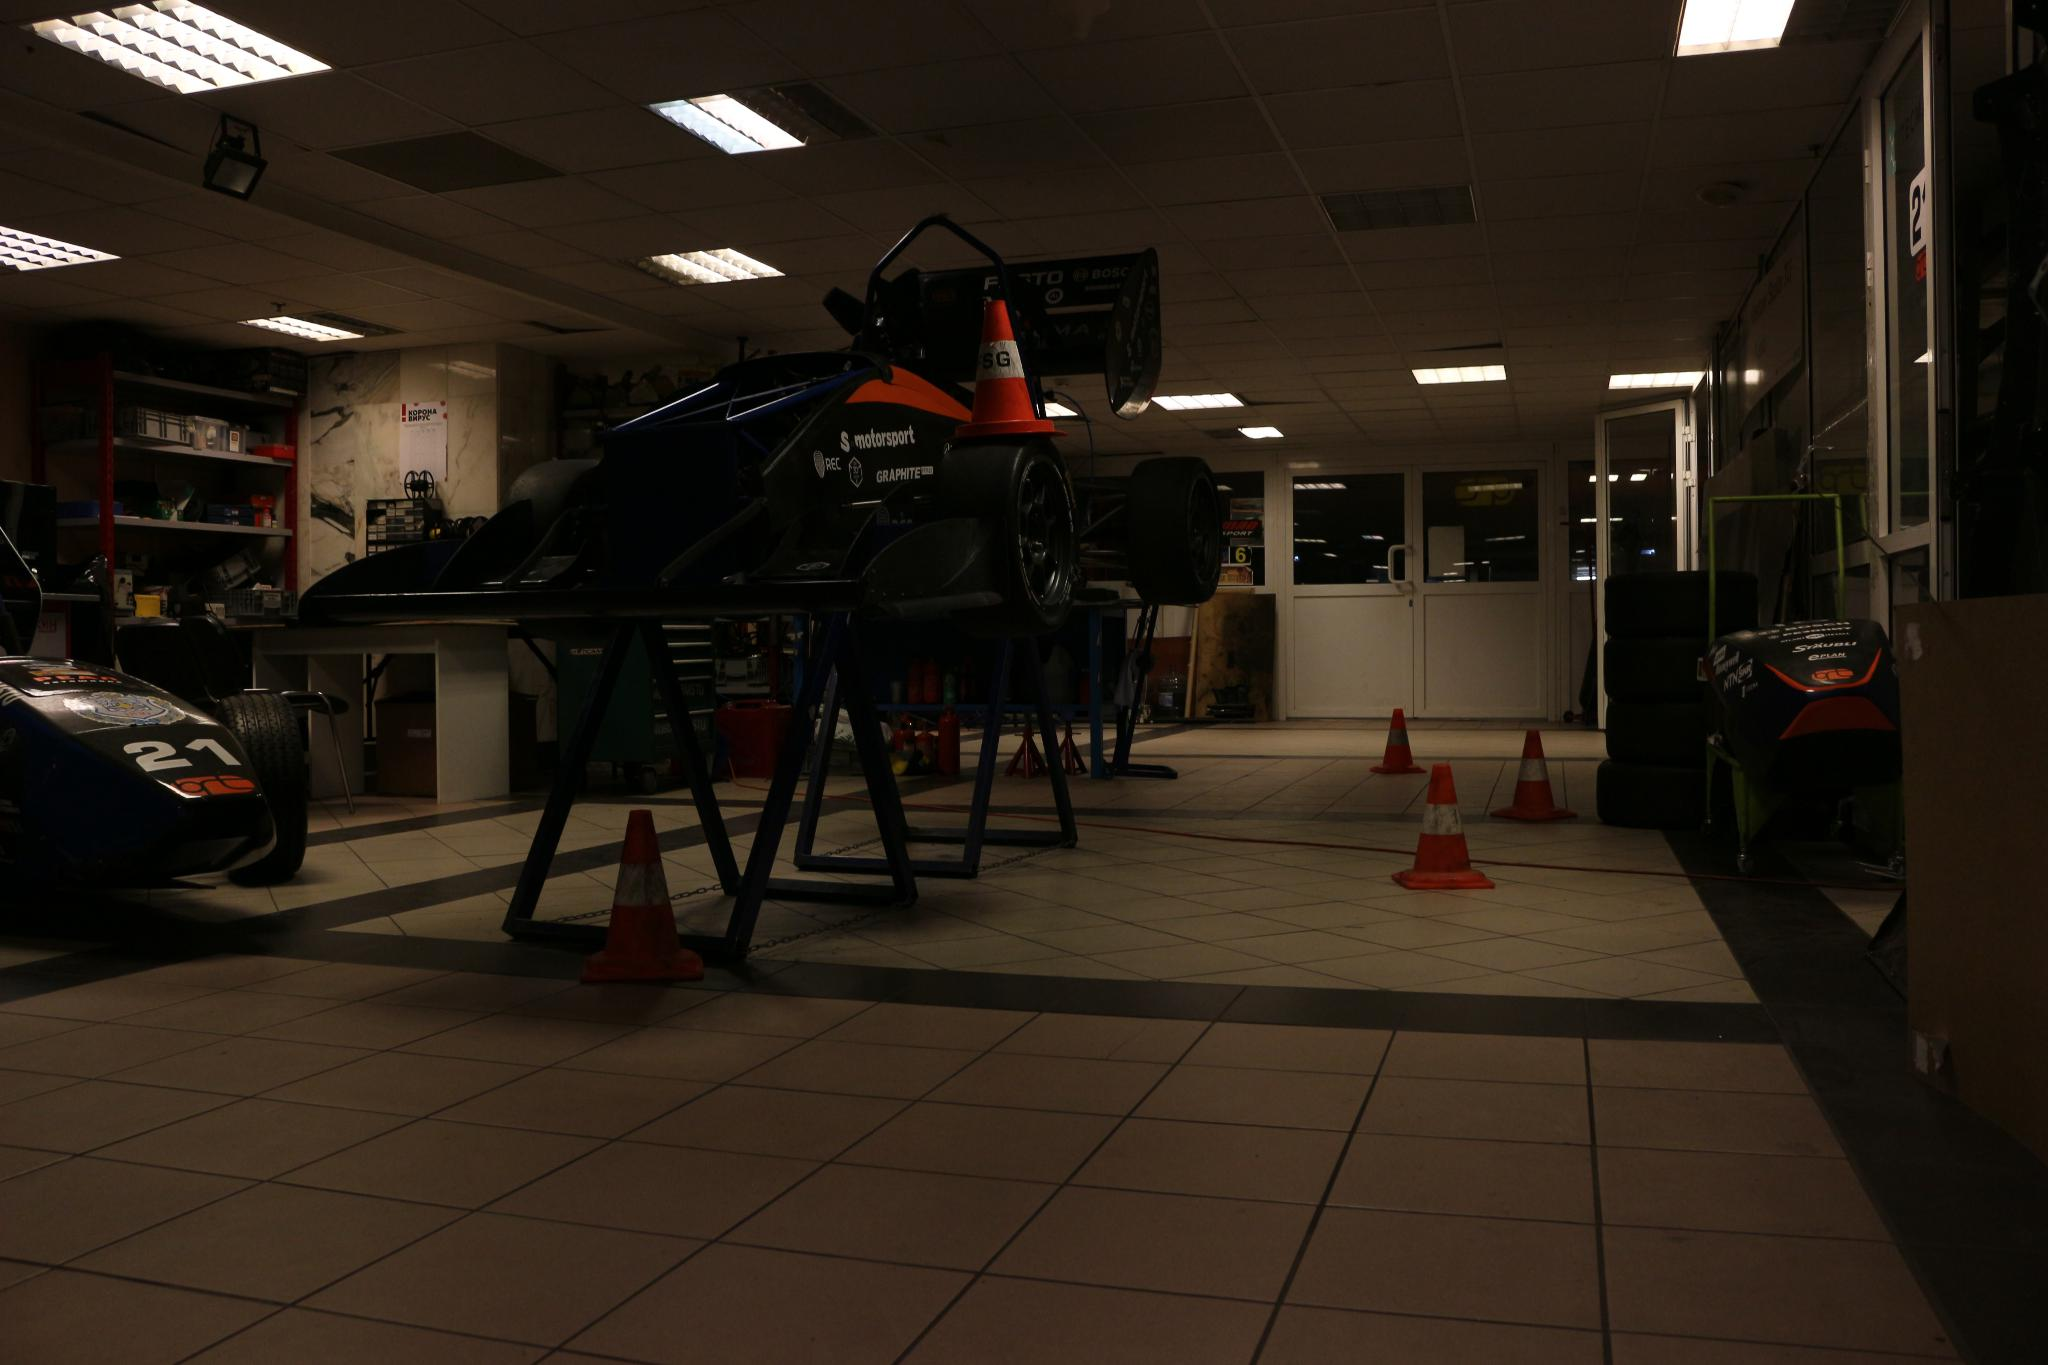Orange_Cone: (585, 803, 703, 983), (1390, 762, 1500, 894), (956, 300, 1058, 442), (1492, 725, 1581, 824), (1367, 705, 1430, 775)
